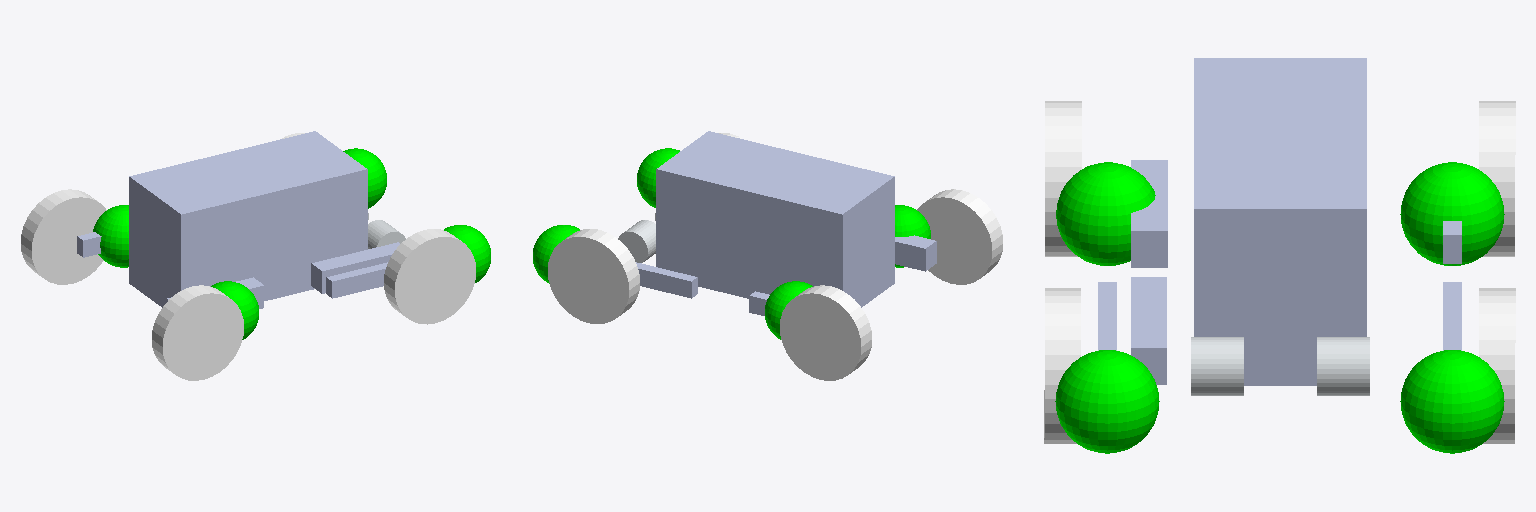
URDF robot description (robotsky_wq):
<?xml version="1.0" encoding="utf-8"?>
<!-- This URDF was automatically created by SolidWorks to URDF Exporter! Originally created by Stephen Brawner (brawner@gmail.com) 
     Commit Version: 1.6.0-4-g7f85cfe  Build Version: 1.6.7995.38578
     For more information, please see http://wiki.ros.org/sw_urdf_exporter -->
<robot name="robotsky_wq">
  <link name="base_link">
    <inertial>
      <origin xyz="0.0 0.0 0.0" rpy="0 0 0" />
      <mass value="10.2741064" />
      <inertia ixx="0.06433677438" ixy="-5.51931185939954E-18" ixz="2.59645143851211E-35" iyy="0.1557870497976" iyz="1.1905679766836E-34" izz="0.147821154744" />
    </inertial>
    <visual>
      <origin xyz="0 0 0" rpy="0 0 0" />
      <geometry>
        <mesh filename="../meshes/base_link.STL" />
      </geometry>
      <material name="">
        <color rgba="0.796078431372549 0.823529411764706 0.937254901960784 1" />
      </material>
    </visual>
    <collision>
      <origin xyz="0 0 0" rpy="0 0 0" />
      <geometry>
        <mesh filename="../meshes/base_link.STL" />
      </geometry>
    </collision>
  </link>
  <link name="RF_Roll_Link">
    <inertial>
      <origin xyz="0.213 0.0605 0" rpy="0 0 0" />
      <mass value="0.351377163747343" />
      <inertia ixx="0.000147512525555682" ixy="7.27296704683984E-21" ixz="2.91358029794812E-36" iyy="0.00014270305062689" iyz="-1.01206721034946E-36" izz="0.000147512525555682" />
    </inertial>
    <visual>
      <origin xyz="0 0.0605 0" rpy="0 0 0" />
      <geometry>
        <mesh filename="../meshes/RF_Roll_Link.STL" />
      </geometry>
      <material name="">
        <color rgba="0.898039215686275 0.917647058823529 0.929411764705882 1" />
      </material>
    </visual>
    <collision>
      <origin xyz="0 0.0605 0" rpy="0 0 0" />
      <geometry>
        <mesh filename="../meshes/RF_Roll_Link.STL" />
      </geometry>
    </collision>
  </link>
  <joint name="RF_Roll_Joint" type="revolute">
    <origin xyz="0.0 -0.0605 0" rpy="0 0 0" />
    <parent link="base_link" />
    <child link="RF_Roll_Link" />
    <axis xyz="1 0 0" />
    <limit lower="-0.5" upper="1.57" effort="5" velocity="10" />
  </joint>
  <link name="RF_Hip_Link">
    <inertial>
      <origin xyz="-0.0799999999999999 -0.0655 6.93889390390723E-18" rpy="0 0 0" />
      <mass value="0.2576" />
      <inertia ixx="6.06433333333334E-05" ixy="-6.03732920138416E-21" ixz="-5.19513540982638E-21" iyy="0.000583893333333334" iyz="1.2987838524566E-21" izz="0.000575843333333334" />
    </inertial>
    <visual>
      <origin xyz="0 0 0" rpy="0 0 0" />
      <geometry>
        <mesh filename="../meshes/RF_Hip_Link.STL" />
      </geometry>
      <material name="">
        <color rgba="0.796078431372549 0.823529411764706 0.937254901960784 1" />
      </material>
    </visual>
    <collision>
      <origin xyz="0 0 0" rpy="0 0 0" />
      <geometry>
        <mesh filename="../meshes/RF_Hip_Link.STL" />
      </geometry>
    </collision>
  </link>
  <joint name="RF_Hip_Joint" type="revolute">
    <origin xyz="0.213 -0. 0" rpy="0 0 0" />
    <parent link="RF_Roll_Link" />
    <child link="RF_Hip_Link" />
    <axis xyz="0 1 0" />
    <limit lower="-3.14" upper="0.01" effort="8" velocity="20" />
  </joint>
  <link name="RF_Knee_Link">
    <inertial>
      <origin xyz="0.08 -0.04 6.93889390390723E-18" rpy="0 0 0" />
      <mass value="0.50488" />
      <inertia ixx="1.102114E-05" ixy="1.34076054656801E-22" ixz="-5.98479599211999E-22" iyy="0.00023161" iyz="-3.24695963114148E-22" izz="0.00022689914" />
    </inertial>
    <visual>
      <origin xyz="0 0 0" rpy="0 0 0" />
      <geometry>
        <mesh filename="../meshes/RF_Knee_Link.STL" />
      </geometry>
      <material name="">
        <color rgba="0.796078431372549 0.823529411764706 0.937254901960784 1" />
      </material>
    </visual>
    <collision>
      <origin xyz="0 0 0" rpy="0 0 0" />
      <geometry>
        <mesh filename="../meshes/RF_Knee_Link.STL" />
      </geometry>
    </collision>
  </link>
  <joint name="RF_Knee_Joint" type="revolute">
    <origin xyz="-0.16 -0.0655 0" rpy="0 0 0" />
    <parent link="RF_Hip_Link" />
    <child link="RF_Knee_Link" />
    <axis xyz="0 1 0" />
    <limit lower="-0.01" upper="3.14" effort="12" velocity="20" />
  </joint>
  <link name="RF_Wheel_Link">
    <inertial>
      <origin xyz="2.77555756156289E-17 -0.0430000000000001 0" rpy="0 0 0" />
      <mass value="0.630871074749001" />
      <inertia ixx="0.000951563871079743" ixy="-9.77416343626862E-20" ixz="-6.6558105573585E-51" iyy="0.00177432489773156" iyz="-1.60011892683328E-36" izz="0.000951563871079743" />
    </inertial>
    <visual>
      <origin xyz="0 -0.043 0" rpy="1.57 0 0" />
      <geometry>
        <cylinder radius="0.075" length="0.035" />
      </geometry>
      <material name="">
        <color rgba="1 1 1 1" />
      </material>
    </visual>
    <visual>
      <geometry>
        <sphere radius="0.05" />
      </geometry>
      <origin xyz="0.08 0.0 0.0" rpy="0 0 0" />
      <material name="green">
        <color rgba="0 1 0 1" />
      </material>
    </visual>
    <collision>
      <origin xyz="0 -0.043 0" rpy="1.57 0 0" />
      <geometry>
        <cylinder radius="0.075" length="0.035" />
      </geometry>
    </collision>
    <!-- <collision>
      <origin xyz="0 0 0" rpy="0 0 0" />
      <geometry>
        <mesh filename="../meshes/RF_Wheel_Link.STL" />
      </geometry>
    </collision> -->
  </link>
  <joint name="RF_Wheel_Joint" type="continuous">
    <origin xyz="0.16 -0.04 0" rpy="0 0 0" />
    <parent link="RF_Knee_Link" />
    <child link="RF_Wheel_Link" />
    <axis xyz="0 1 0" />
    <limit effort="5" velocity="10" />
  </joint>
  <link name="LF_Roll_Link">
    <inertial>
      <origin xyz="2.77555756156289E-17 0.000500000000000056 0" rpy="0 0 0" />
      <mass value="0.351377163747343" />
      <inertia ixx="0.000147512525555682" ixy="-7.27296704683984E-21" ixz="2.91358029794812E-36" iyy="0.00014270305062689" iyz="1.01206721034946E-36" izz="0.000147512525555682" />
    </inertial>
    <visual>
      <origin xyz="0 0 0" rpy="0 0 0" />
      <geometry>
        <mesh filename="../meshes/LF_Roll_Link.STL" />
      </geometry>
      <material name="">
        <color rgba="0.898039215686275 0.917647058823529 0.929411764705882 1" />
      </material>
    </visual>
    <collision>
      <origin xyz="0 0 0" rpy="0 0 0" />
      <geometry>
        <mesh filename="../meshes/LF_Roll_Link.STL" />
      </geometry>
    </collision>
  </link>
  <joint name="LF_Roll_Joint" type="revolute">
    <origin xyz="0.213 0.06 0" rpy="0 0 0" />
    <parent link="base_link" />
    <child link="LF_Roll_Link" />
    <axis xyz="1 0 0" />
    <limit lower="-1.57" upper="0.5" effort="5" velocity="10" />
  </joint>
  <link name="LF_Hip_Link">
    <inertial>
      <origin xyz="-0.0799999999999999 0.0655000000000001 0" rpy="0 0 0" />
      <mass value="0.2576" />
      <inertia ixx="6.06433333333334E-05" ixy="-6.03732920138414E-21" ixz="-5.19513540982638E-21" iyy="0.000583893333333334" iyz="-2.69693614176841E-36" izz="0.000575843333333334" />
    </inertial>
    <visual>
      <origin xyz="0 0 0" rpy="0 0 0" />
      <geometry>
        <mesh filename="../meshes/LF_Hip_Link.STL" />
      </geometry>
      <material name="">
        <color rgba="0.796078431372549 0.823529411764706 0.937254901960784 1" />
      </material>
    </visual>
    <collision>
      <origin xyz="0 0 0" rpy="0 0 0" />
      <geometry>
        <mesh filename="../meshes/LF_Hip_Link.STL" />
      </geometry>
    </collision>
  </link>
  <joint name="LF_Hip_Joint" type="revolute">
    <origin xyz="0 0 0" rpy="0 0 0" />
    <parent link="LF_Roll_Link" />
    <child link="LF_Hip_Link" />
    <axis xyz="0 1 0" />
    <limit lower="-3.14" upper="0.01" effort="8" velocity="20" />
  </joint>
  <link name="LF_Knee_Link">
    <inertial>
      <origin xyz="0.08 0.04 6.93889390390723E-18" rpy="0 0 0" />
      <mass value="0.50488" />
      <inertia ixx="1.102114E-05" ixy="1.34076054656801E-22" ixz="-5.98479599211999E-22" iyy="0.00023161" iyz="-3.24695963114148E-22" izz="0.00022689914" />
    </inertial>
    <visual>
      <origin xyz="0 0 0" rpy="0 0 0" />
      <geometry>
        <mesh filename="../meshes/LF_Knee_Link.STL" />
      </geometry>
      <material name="">
        <color rgba="0.796078431372549 0.823529411764706 0.937254901960784 1" />
      </material>
    </visual>
    <collision>
      <origin xyz="0 0 0" rpy="0 0 0" />
      <geometry>
        <mesh filename="../meshes/LF_Knee_Link.STL" />
      </geometry>
    </collision>
  </link>
  <joint name="LF_Knee_Joint" type="revolute">
    <origin xyz="-0.16 0.0655 0" rpy="0 0 0" />
    <parent link="LF_Hip_Link" />
    <child link="LF_Knee_Link" />
    <axis xyz="0 1 0" />
    <limit lower="-0.01" upper="3.14" effort="12" velocity="20" />
  </joint>
  <link name="LF_Wheel_Link">
    <inertial>
      <origin xyz="2.77555756156289E-17 0.0430000000000001 0" rpy="0 0 0" />
      <mass value="0.630871074749001" />
      <inertia ixx="0.000951563871079743" ixy="9.77416343626861E-20" ixz="-6.65581055735849E-52" iyy="0.00177432489773156" iyz="1.60011892683328E-36" izz="0.000951563871079743" />
    </inertial>
    <visual>
      <origin xyz="0 0.043 0" rpy="1.57 0 0" />
      <geometry>
        <cylinder radius="0.075" length="0.035" />
      </geometry>
      <material name="">
        <color rgba="1 1 1 1" />
      </material>
    </visual>
    <visual>
      <geometry>
        <sphere radius="0.05" />
      </geometry>
      <origin xyz="0.08 0.0 0.0" rpy="0 0 0" />
      <material name="green">
        <color rgba="0 1 0 1" />
      </material>
    </visual>
    <collision>
      <origin xyz="0 0.043 0" rpy="1.57 0 0" />
      <geometry>
        <cylinder radius="0.075" length="0.035" />
      </geometry>
    </collision>
    <!-- <collision>
      <origin xyz="0 0 0" rpy="0 0 0" />
      <geometry>
        <mesh filename="../meshes/LF_Wheel_Link.STL" />
      </geometry>
    </collision> -->
  </link>
  <joint name="LF_Wheel_Joint" type="continuous">
    <origin xyz="0.16 0.04 0" rpy="0 0 0" />
    <parent link="LF_Knee_Link" />
    <child link="LF_Wheel_Link" />
    <axis xyz="0 1 0" />
    <limit effort="5" velocity="10" />
  </joint>
  <link name="RB_Roll_Link">
    <inertial>
      <origin xyz="-8.32667268468867E-17 -0.0005 0" rpy="0 0 0" />
      <mass value="0.351377163747343" />
      <inertia ixx="0.000147512525555682" ixy="-7.27296704683984E-21" ixz="-1.83982824040269E-36" iyy="0.00014270305062689" iyz="7.10051835412516E-22" izz="0.000147512525555682" />
    </inertial>
    <visual>
      <origin xyz="0 0 0" rpy="0 0 0" />
      <geometry>
        <mesh filename="../meshes/RB_Roll_Link.STL" />
      </geometry>
      <material name="">
        <color rgba="0.898039215686275 0.917647058823529 0.929411764705882 1" />
      </material>
    </visual>
    <collision>
      <origin xyz="0 0 0" rpy="0 0 0" />
      <geometry>
        <mesh filename="../meshes/RB_Roll_Link.STL" />
      </geometry>
    </collision>
  </link>
  <joint name="RB_Roll_Joint" type="revolute">
    <origin xyz="-0.213 -0.06 0" rpy="0 0 0" />
    <parent link="base_link" />
    <child link="RB_Roll_Link" />
    <axis xyz="1 0 0" />
    <limit lower="-0.5" upper="1.57" effort="5" velocity="10" />
  </joint>
  <link name="RB_Hip_Link">
    <inertial>
      <origin xyz="0.0799999999999999 -0.0655 1.38777878078145E-17" rpy="0 0 0" />
      <mass value="0.2576" />
      <inertia ixx="6.06433333333334E-05" ixy="-6.03732920138414E-21" ixz="5.19513540982638E-21" iyy="0.000583893333333334" iyz="-1.18847012609475E-21" izz="0.000575843333333334" />
    </inertial>
    <visual>
      <origin xyz="0 0 0" rpy="0 0 0" />
      <geometry>
        <mesh filename="../meshes/RB_Hip_Link.STL" />
      </geometry>
      <material name="">
        <color rgba="0.796078431372549 0.823529411764706 0.937254901960784 1" />
      </material>
    </visual>
    <collision>
      <origin xyz="0 0 0" rpy="0 0 0" />
      <geometry>
        <mesh filename="../meshes/RB_Hip_Link.STL" />
      </geometry>
    </collision>
  </link>
  <joint name="RB_Hip_Joint" type="revolute">
    <origin xyz="0 0 0" rpy="0 0 0" />
    <parent link="RB_Roll_Link" />
    <child link="RB_Hip_Link" />
    <axis xyz="0 1 0" />
    <limit lower="-0.01" upper="3.14" effort="8" velocity="20" />
  </joint>
  <link name="RB_Knee_Link">
    <inertial>
      <origin xyz="-0.08 -0.04 6.93889390390723E-18" rpy="0 0 0" />
      <mass value="0.50488" />
      <inertia ixx="1.102114E-05" ixy="1.34076054656801E-22" ixz="5.98479599211999E-22" iyy="0.00023161" iyz="3.24695963114148E-22" izz="0.00022689914" />
    </inertial>
    <visual>
      <origin xyz="0 0 0" rpy="0 0 0" />
      <geometry>
        <mesh filename="../meshes/RB_Knee_Link.STL" />
      </geometry>
      <material name="">
        <color rgba="0.796078431372549 0.823529411764706 0.937254901960784 1" />
      </material>
    </visual>
    <collision>
      <origin xyz="0 0 0" rpy="0 0 0" />
      <geometry>
        <mesh filename="../meshes/RB_Knee_Link.STL" />
      </geometry>
    </collision>
  </link>
  <joint name="RB_Knee_Joint" type="revolute">
    <origin xyz="0.16 -0.0655 0" rpy="0 0 0" />
    <parent link="RB_Hip_Link" />
    <child link="RB_Knee_Link" />
    <axis xyz="0 1 0" />
    <limit lower="-3.14" upper="0.01" effort="12" velocity="20" />
  </joint>
  <link name="RB_Wheel_Link">
    <inertial>
      <origin xyz="-2.77555756156289E-17 -0.0430000000000001 0" rpy="0 0 0" />
      <mass value="0.630871074749001" />
      <inertia ixx="0.000951563871079743" ixy="9.77416343626861E-20" ixz="6.65581055735849E-52" iyy="0.00177432489773156" iyz="-1.60011892683328E-36" izz="0.000951563871079743" />
    </inertial>
    <visual>
      <origin xyz="0 -0.043 0" rpy="1.57 0 0" />
      <geometry>
        <cylinder radius="0.075" length="0.035" />
      </geometry>
      <material name="">
        <color rgba="1 1 1 1" />
      </material>
    </visual>
    <visual>
      <geometry>
        <sphere radius="0.05" />
      </geometry>
      <origin xyz="0.08 0.0 0.0" rpy="0 0 0" />
      <material name="green">
        <color rgba="0 1 0 1" />
      </material>
    </visual>
    <collision>
      <origin xyz="0 -0.043 0" rpy="1.57 0 0" />
      <geometry>
        <cylinder radius="0.075" length="0.035" />
      </geometry>
    </collision>
    <!-- <collision>
      <origin xyz="0 0 0" rpy="0 0 0" />
      <geometry>
        <mesh filename="../meshes/RB_Wheel_Link.STL" />
      </geometry>
    </collision> -->
  </link>
  <joint name="RB_Wheel_Joint" type="continuous">
    <origin xyz="-0.16 -0.04 0" rpy="0 0 0" />
    <parent link="RB_Knee_Link" />
    <child link="RB_Wheel_Link" />
    <axis xyz="0 1 0" />
    <limit effort="5" velocity="10" />
  </joint>
  <link name="LB_Roll_Link">
    <inertial>
      <origin xyz="-2.77555756156289E-17 0.000500000000000021 0" rpy="0 0 0" />
      <mass value="0.351377163747343" />
      <inertia ixx="0.000147512525555682" ixy="7.27296704683984E-21" ixz="-1.83982824040269E-36" iyy="0.00014270305062689" iyz="-7.10051835412516E-22" izz="0.000147512525555682" />
    </inertial>
    <visual>
      <origin xyz="0 0 0" rpy="0 0 0" />
      <geometry>
        <mesh filename="../meshes/LB_Roll_Link.STL" />
      </geometry>
      <material name="">
        <color rgba="0.898039215686275 0.917647058823529 0.929411764705882 1" />
      </material>
    </visual>
    <collision>
      <origin xyz="0 0 0" rpy="0 0 0" />
      <geometry>
        <mesh filename="../meshes/LB_Roll_Link.STL" />
      </geometry>
    </collision>
  </link>
  <joint name="LB_Roll_Joint" type="revolute">
    <origin xyz="-0.213 0.06 0" rpy="0 0 0" />
    <parent link="base_link" />
    <child link="LB_Roll_Link" />
    <axis xyz="1 0 0" />
    <limit lower="-1.57" upper="0.5" effort="5" velocity="10" />
  </joint>
  <link name="LB_Hip_Link">
    <inertial>
      <origin xyz="0.0799999999999999 0.0655 2.08166817117217E-17" rpy="0 0 0" />
      <mass value="0.2576" />
      <inertia ixx="6.06433333333334E-05" ixy="-6.03732920138416E-21" ixz="5.19513540982638E-21" iyy="0.000583893333333334" iyz="-1.10313726361844E-22" izz="0.000575843333333334" />
    </inertial>
    <visual>
      <origin xyz="0 0 0" rpy="0 0 0" />
      <geometry>
        <mesh filename="../meshes/LB_Hip_Link.STL" />
      </geometry>
      <material name="">
        <color rgba="0.796078431372549 0.823529411764706 0.937254901960784 1" />
      </material>
    </visual>
    <collision>
      <origin xyz="0 0 0" rpy="0 0 0" />
      <geometry>
        <mesh filename="../meshes/LB_Hip_Link.STL" />
      </geometry>
    </collision>
  </link>
  <joint name="LB_Hip_Joint" type="revolute">
    <origin xyz="0 0 0" rpy="0 0 0" />
    <parent link="LB_Roll_Link" />
    <child link="LB_Hip_Link" />
    <axis xyz="0 1 0" />
    <limit lower="-0.01" upper="3.14" effort="8" velocity="20" />
  </joint>
  <link name="LB_Knee_Link">
    <inertial>
      <origin xyz="-0.08 0.04 6.93889390390723E-18" rpy="0 0 0" />
      <mass value="0.50488" />
      <inertia ixx="1.102114E-05" ixy="1.34076054656801E-22" ixz="5.98479599211999E-22" iyy="0.00023161" iyz="3.24695963114148E-22" izz="0.00022689914" />
    </inertial>
    <visual>
      <origin xyz="0 0 0" rpy="0 0 0" />
      <geometry>
        <mesh filename="../meshes/LB_Knee_Link.STL" />
      </geometry>
      <material name="">
        <color rgba="0.796078431372549 0.823529411764706 0.937254901960784 1" />
      </material>
    </visual>
    <collision>
      <origin xyz="0 0 0" rpy="0 0 0" />
      <geometry>
        <mesh filename="../meshes/LB_Knee_Link.STL" />
      </geometry>
    </collision>
  </link>
  <joint name="LB_Knee_Joint" type="revolute">
    <origin xyz="0.16 0.0655 0" rpy="0 0 0" />
    <parent link="LB_Hip_Link" />
    <child link="LB_Knee_Link" />
    <axis xyz="0 1 0" />
    <limit lower="-3.14" upper="0.01" effort="12" velocity="20" />
  </joint>
  <link name="LB_Wheel_Link">
    <inertial>
      <origin xyz="-2.77555756156289E-17 0.0430000000000001 0" rpy="0 0 0" />
      <mass value="0.630871074749001" />
      <inertia ixx="0.000951563871079743" ixy="-9.77416343626862E-20" ixz="6.6558105573585E-51" iyy="0.00177432489773156" iyz="1.60011892683328E-36" izz="0.000951563871079743" />
    </inertial>
    <visual>
      <origin xyz="0 0.043 0" rpy="1.57 0 0" />
      <geometry>
        <cylinder radius="0.075" length="0.035" />
      </geometry>
      <material name="">
        <color rgba="1 1 1 1" />
      </material>
    </visual>
    <visual>
      <geometry>
        <sphere radius="0.05" />
      </geometry>
      <origin xyz="0.08 0.0 0.0" rpy="0 0 0" />
      <material name="green">
        <color rgba="0 1 0 1" />
      </material>
    </visual>
    <collision>
      <origin xyz="0 0.043 0" rpy="1.57 0 0" />
      <geometry>
        <cylinder radius="0.075" length="0.035" />
      </geometry>
    </collision>
    <!-- <collision>
      <origin xyz="0 0 0" rpy="0 0 0" />
      <geometry>
        <mesh filename="../meshes/LB_Wheel_Link.STL" />
      </geometry>
    </collision> -->
  </link>
  <joint name="LB_Wheel_Joint" type="continuous">
    <origin xyz="-0.16 0.04 0" rpy="0 0 0" />
    <parent link="LB_Knee_Link" />
    <child link="LB_Wheel_Link" />
    <axis xyz="0 1 0" />
    <limit effort="5" velocity="10" />
  </joint>
</robot>

--- Render facts (derived) ---
The picture shows the robot from 3 angles, left to right: view 1: azimuth 30°, elevation 25°; view 2: azimuth 150°, elevation 25°; view 3: azimuth 270°, elevation 25°; orthographic projection.
Robot: robotsky_wq — 17 links, 16 joints (12 revolute, 4 continuous); root link base_link; default pose: all joints at 0.
Visible links, largest first — view 1: base_link, RB_Wheel_Link, RF_Wheel_Link, LB_Wheel_Link, RF_Hip_Link, RF_Knee_Link, LF_Wheel_Link, RF_Roll_Link; view 2: base_link, LB_Wheel_Link, LF_Wheel_Link, RB_Wheel_Link, LF_Knee_Link, RB_Hip_Link, RF_Wheel_Link, LF_Roll_Link; view 3: base_link, LF_Wheel_Link, RF_Wheel_Link, LB_Wheel_Link, RB_Wheel_Link, RF_Hip_Link, RB_Hip_Link, RF_Roll_Link, LF_Roll_Link, RF_Knee_Link, LF_Knee_Link, LB_Knee_Link.
Link boxes in pixels (box(x1,y1,x2,y2)): base_link: box(129, 131, 367, 307); RB_Wheel_Link: box(152, 281, 258, 380); RF_Wheel_Link: box(384, 225, 490, 324); LB_Wheel_Link: box(21, 189, 128, 284); RF_Hip_Link: box(311, 242, 399, 293); RF_Knee_Link: box(326, 262, 387, 298); LF_Wheel_Link: box(282, 133, 386, 208); RF_Roll_Link: box(368, 220, 405, 248); base_link: box(656, 131, 894, 307); LB_Wheel_Link: box(765, 281, 871, 380); LF_Wheel_Link: box(533, 225, 639, 323); RB_Wheel_Link: box(895, 189, 1002, 284); LF_Knee_Link: box(636, 262, 697, 298); RB_Hip_Link: box(895, 235, 936, 271); RF_Wheel_Link: box(637, 133, 741, 207); LF_Roll_Link: box(618, 220, 655, 262); base_link: box(1194, 58, 1366, 385); LF_Wheel_Link: box(1400, 288, 1515, 453); RF_Wheel_Link: box(1044, 288, 1159, 453); LB_Wheel_Link: box(1400, 101, 1515, 265); RB_Wheel_Link: box(1045, 101, 1155, 265); RF_Hip_Link: box(1131, 277, 1166, 384); RB_Hip_Link: box(1131, 160, 1167, 267); RF_Roll_Link: box(1191, 337, 1243, 395); LF_Roll_Link: box(1317, 337, 1369, 395); RF_Knee_Link: box(1098, 282, 1116, 350); LF_Knee_Link: box(1443, 282, 1461, 350); LB_Knee_Link: box(1443, 221, 1461, 263).
Bounding box of the posed robot: 0.631 × 0.4526 × 0.2225 m (x, y, z).
Meshes: 13 distinct files referenced, 8 mesh visuals loaded (8 binary STL); not drawn: 5 (reference not matched to a file when rendering).
